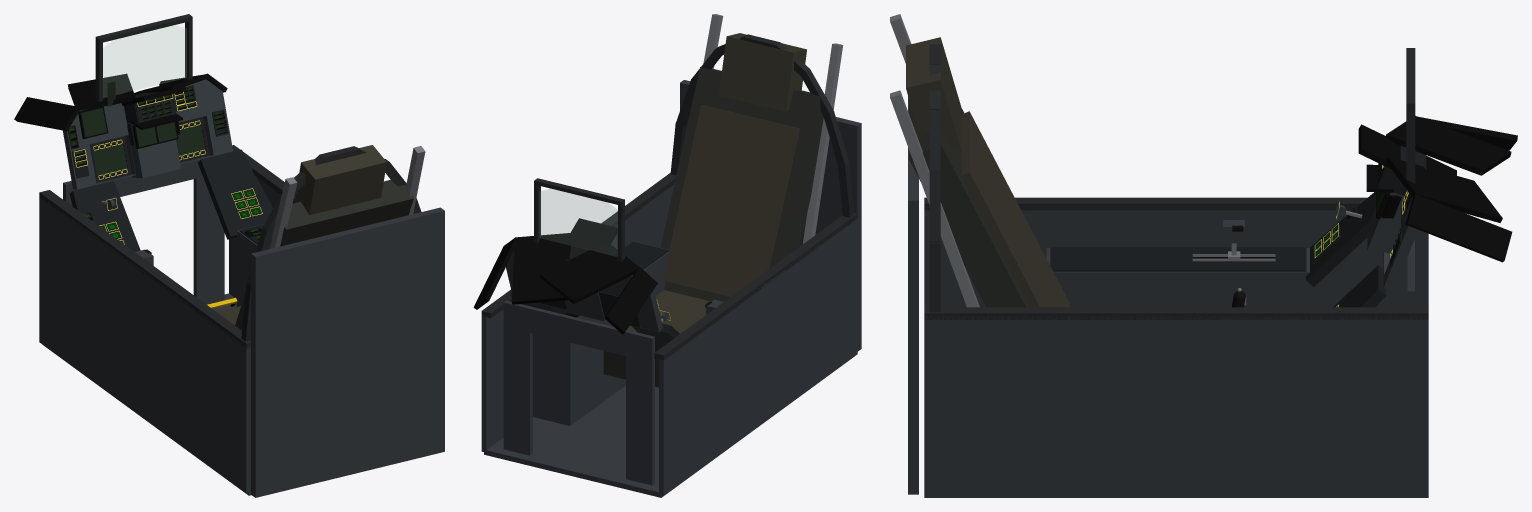
File: cockpit_f16.glb
The picture shows the model from 3 angles, left to right: view 1: azimuth 30°, elevation 25°; view 2: azimuth 150°, elevation 25°; view 3: azimuth 270°, elevation 25°; orthographic projection. The views are drawn at different scales.
Visible parts, largest first — view 1: panel_grey.005, panel_grey.001, hud_glass_69, cushion_97, seat_95, dark.003, panel_grey.010, frame, dark.001, panel_grey.006, panel_grey.007, panel_grey.008 (+16 smaller); view 2: panel_grey.001, cushion_96, seat_95, panel_grey, panel_grey.004, panel_grey.003, cushion_97, panel_grey.010, panel_grey.009, hud_glass_69, panel_grey.005, black (+21 smaller); view 3: panel_grey.003, panel_grey.001, panel_grey.002, cushion_96, frame.001, seat_95, dark, frame, cushion_97, panel_grey.005, black.003, black (+14 smaller).
Boxes of the visible parts, box(x1,y1,x2,y2) form: panel_grey.005: box(251, 207, 444, 497); panel_grey.001: box(39, 197, 250, 493); hud_glass_69: box(103, 25, 186, 97); cushion_97: box(294, 145, 386, 215); seat_95: box(235, 179, 413, 330); dark.003: box(198, 149, 272, 239); panel_grey.010: box(193, 154, 224, 304); frame: box(39, 190, 250, 348); dark.001: box(70, 181, 140, 251); panel_grey.006: box(63, 103, 135, 189); panel_grey.007: box(176, 79, 232, 164); panel_grey.008: box(127, 122, 180, 178); panel_grey.001: box(659, 219, 857, 495); cushion_96: box(662, 105, 799, 296); seat_95: box(660, 67, 826, 301); panel_grey: box(484, 356, 854, 497); panel_grey.004: box(532, 241, 669, 425); panel_grey.003: box(481, 184, 674, 451); cushion_97: box(719, 33, 806, 111); panel_grey.010: box(503, 300, 532, 455); panel_grey.009: box(626, 330, 654, 485); hud_glass_69: box(539, 189, 617, 256); panel_grey.005: box(680, 80, 861, 351); black: box(540, 241, 640, 303); panel_grey.003: box(924, 316, 1428, 496); panel_grey.001: box(924, 210, 1428, 307); panel_grey.002: box(1046, 248, 1309, 307); cushion_96: box(961, 111, 1069, 307); frame.001: box(924, 307, 1428, 319); seat_95: box(908, 98, 1029, 307); dark: box(1050, 247, 1306, 271); frame: box(924, 197, 1367, 210); cushion_97: box(906, 37, 961, 150); panel_grey.005: box(908, 96, 918, 494); black.003: box(1405, 194, 1512, 262); black: box(1385, 116, 1511, 175).
Size of the model in its own units: 0.76 by 1.19 by 1.74.
32 materials, 13 textured.
